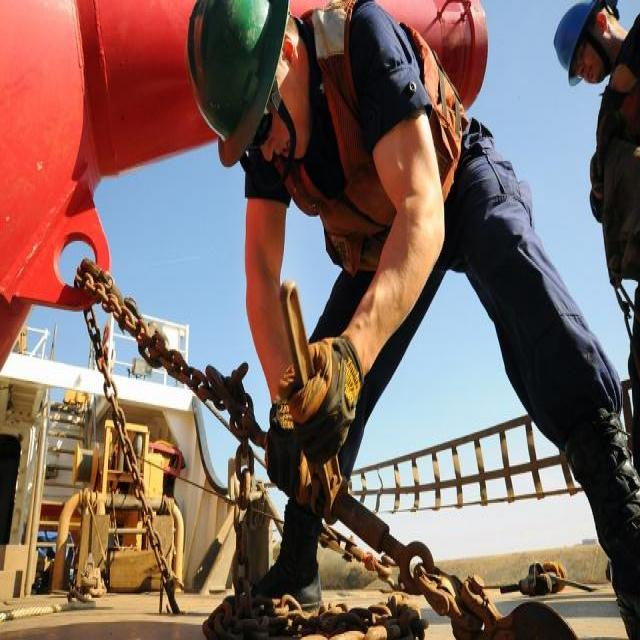Reflective-Jacket: (270, 5, 470, 236)
Safety-Helmet: (179, 0, 292, 176), (550, 0, 609, 86)
